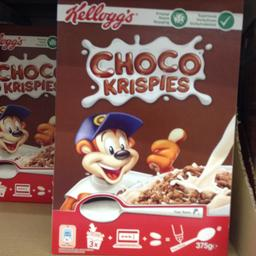cereal: (56, 0, 243, 255)
